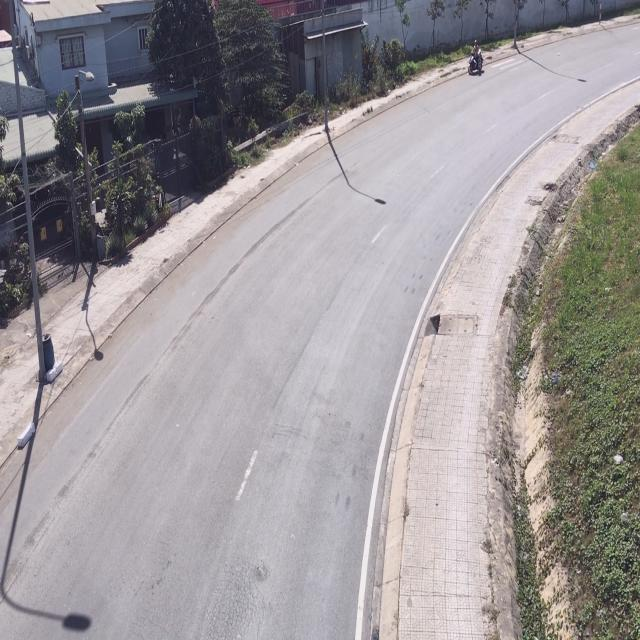motorbike: (466, 41, 484, 75)
